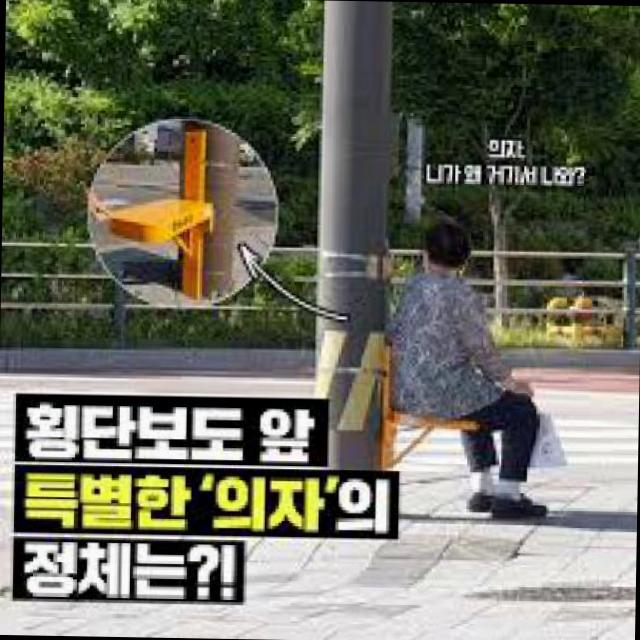Person: (389, 221, 548, 518)
